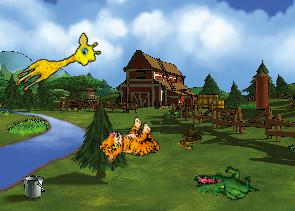crocodile: (192, 159, 259, 210)
giraffe: (12, 29, 104, 102)
tiger: (95, 110, 165, 178)
